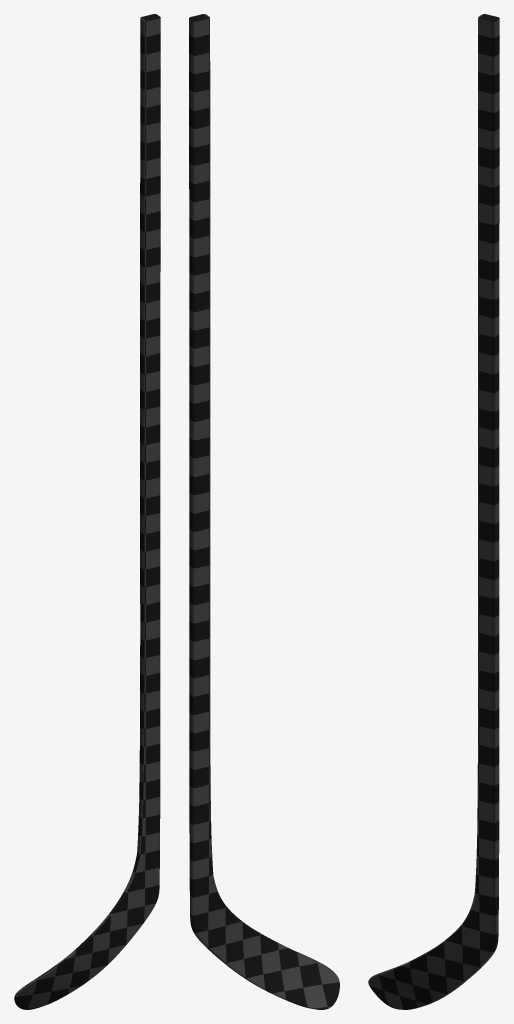
The picture shows the model from 3 angles, left to right: view 1: azimuth 30°, elevation 25°; view 2: azimuth 210°, elevation 25°; view 3: azimuth 330°, elevation 25°; orthographic projection. The views are drawn at different scales.
Visible parts, largest first — view 1: geometry_0; view 2: geometry_0; view 3: geometry_0.
Boxes of the visible parts, x1=… form: geometry_0: x1=14, y1=14, x2=160, y2=1009; geometry_0: x1=189, y1=14, x2=339, y2=1009; geometry_0: x1=368, y1=14, x2=499, y2=1009.
Bounding box in the file's own units: 236 × 1650 × 57.61.
Materials: 1 (1 with a texture image).
